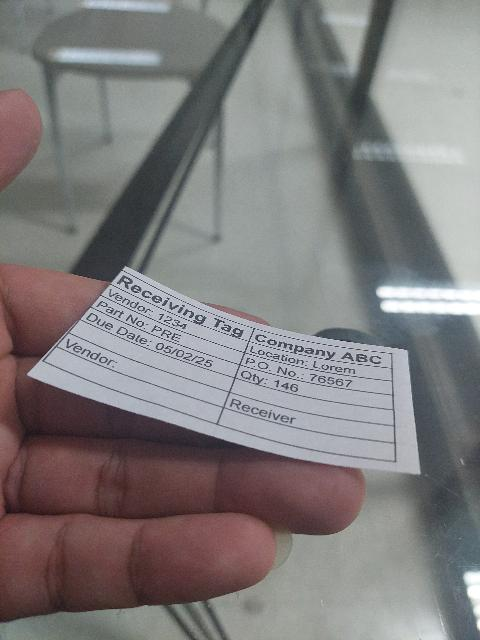PO no: (240, 352, 394, 397)
part no: (90, 294, 244, 366)
qty: (233, 361, 394, 410)
tags: (24, 266, 420, 477)
